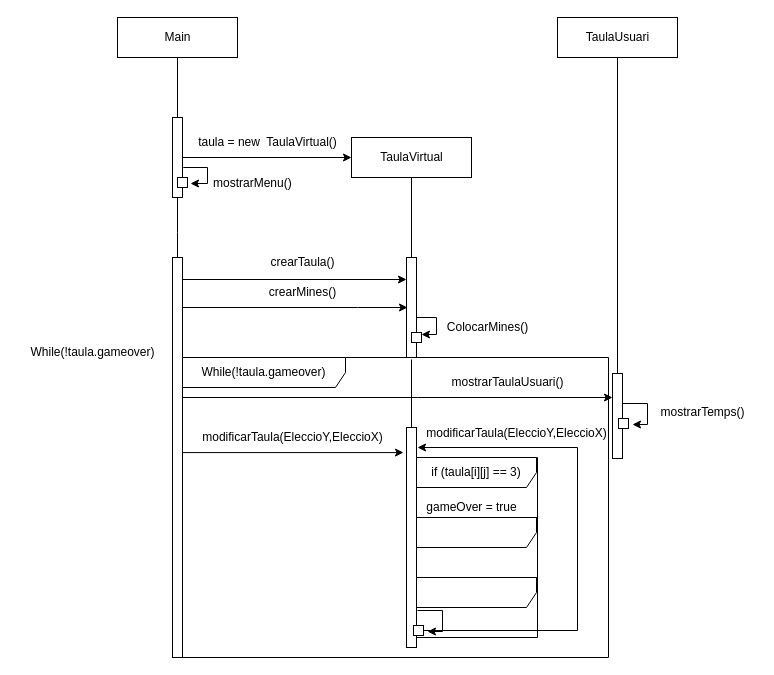
This 774x675 diagram has some shape labels left out. Here are the shapes that lost their labels. From the top down, the centre of each, then its label:
At (477,547): "if (taula[i][j] == 0)".
At (477,607): "if (taula[i][j] == 1)".
